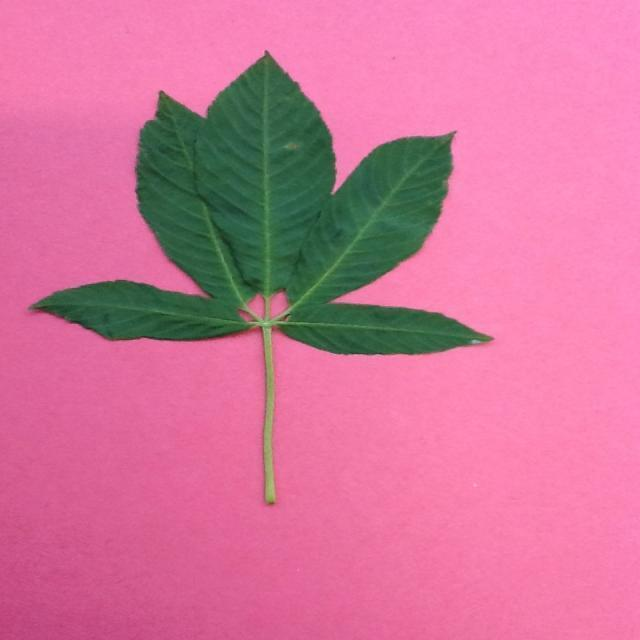foliage: (276, 123, 464, 324), (194, 49, 342, 304), (133, 86, 258, 312), (26, 278, 258, 345), (266, 304, 498, 358)
